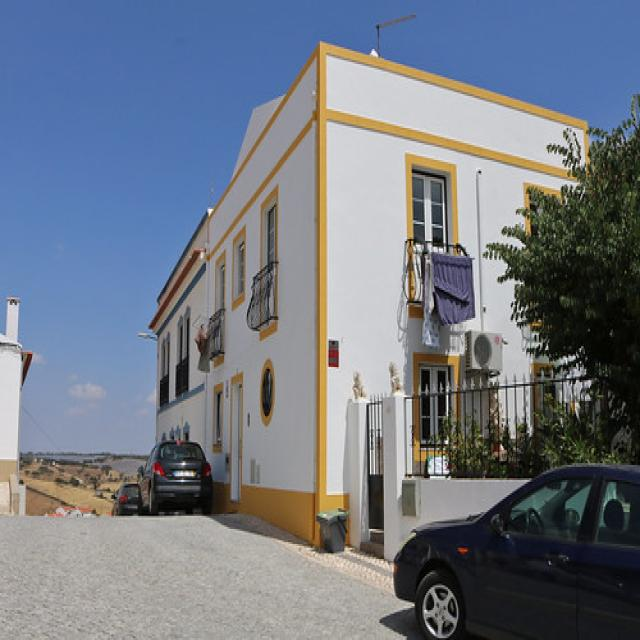building: (149, 33, 595, 552)
